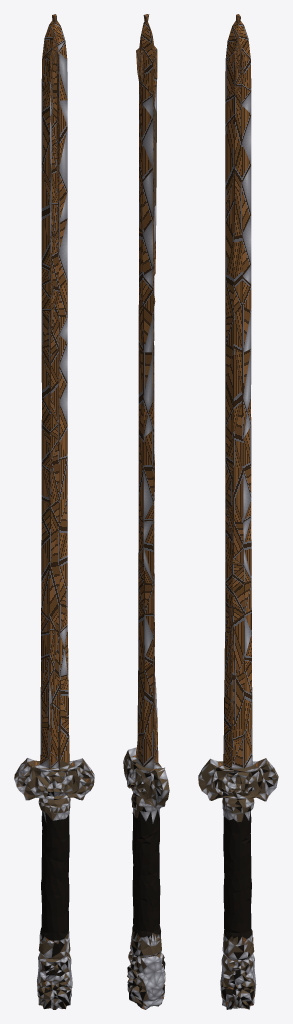
Rendered from rusted_blade.obj.
3 renders of one model, left to right at view 1: azimuth 90°, elevation 25°; view 2: azimuth 210°, elevation 25°; view 3: azimuth 270°, elevation 25°, orthographic.
Size of the model in its own units: 0.1166 by 3 by 0.2204.
